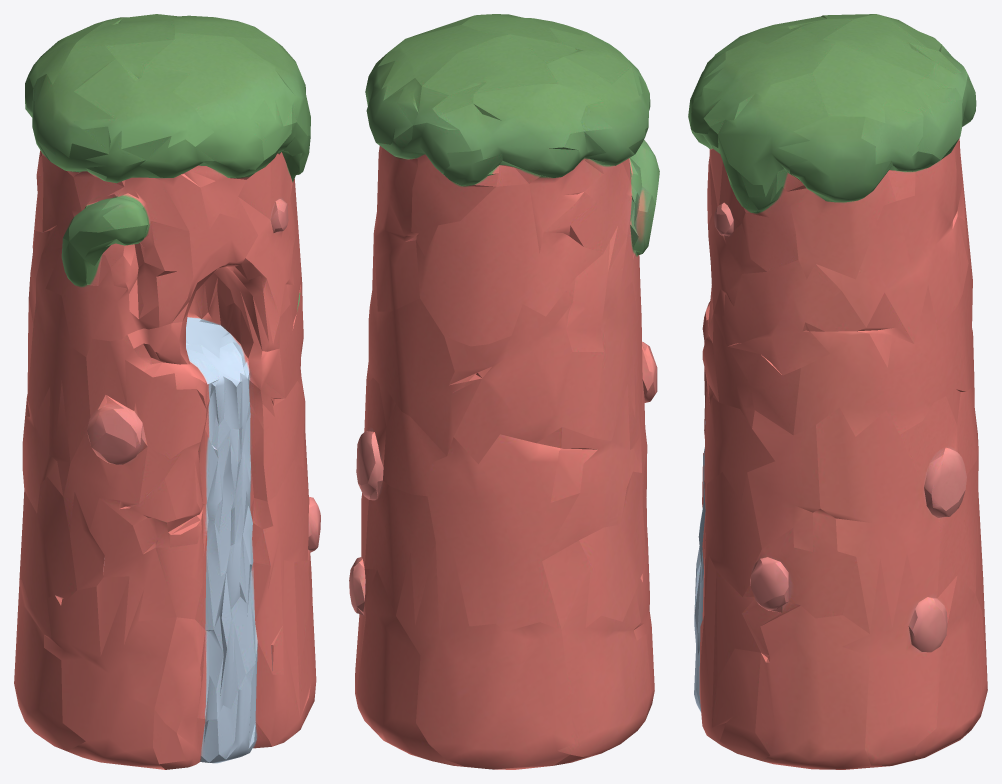
File: dream-mountain.glb
3 views of the same model, side by side, from view 1: azimuth 30°, elevation 25°; view 2: azimuth 150°, elevation 25°; view 3: azimuth 270°, elevation 25° (orthographic).
Parts seen in each view (by area): view 1: output_unwrapped; view 2: output_unwrapped; view 3: output_unwrapped.
Boxes of the visible parts, x1=… form: output_unwrapped: x1=14, y1=14, x2=320, y2=769; output_unwrapped: x1=349, y1=14, x2=659, y2=769; output_unwrapped: x1=688, y1=14, x2=987, y2=769.
Size of the model in its own units: 0.7682 by 1.9 by 0.7651.
1 material, 1 textured.
